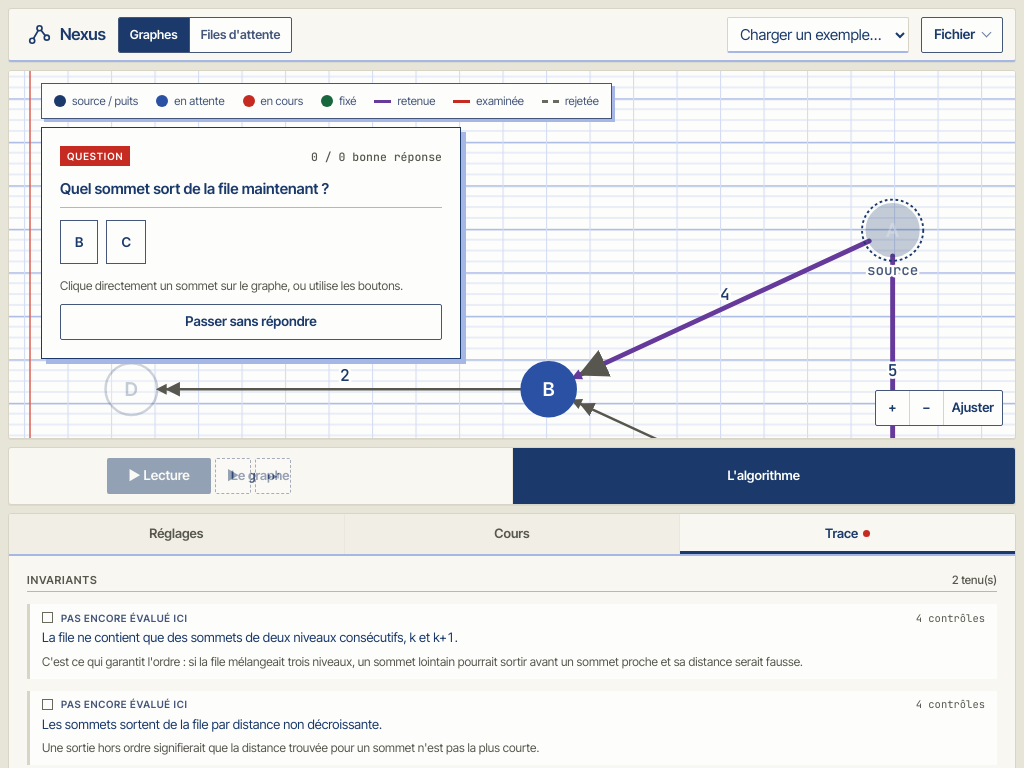
Scenario: mode question › compte une bonne réponse et explique pourquoi
Earlier steps of the test are not shown.
Click the button "B". click: [79, 242]
box: left=60, top=220, right=98, bottom=264
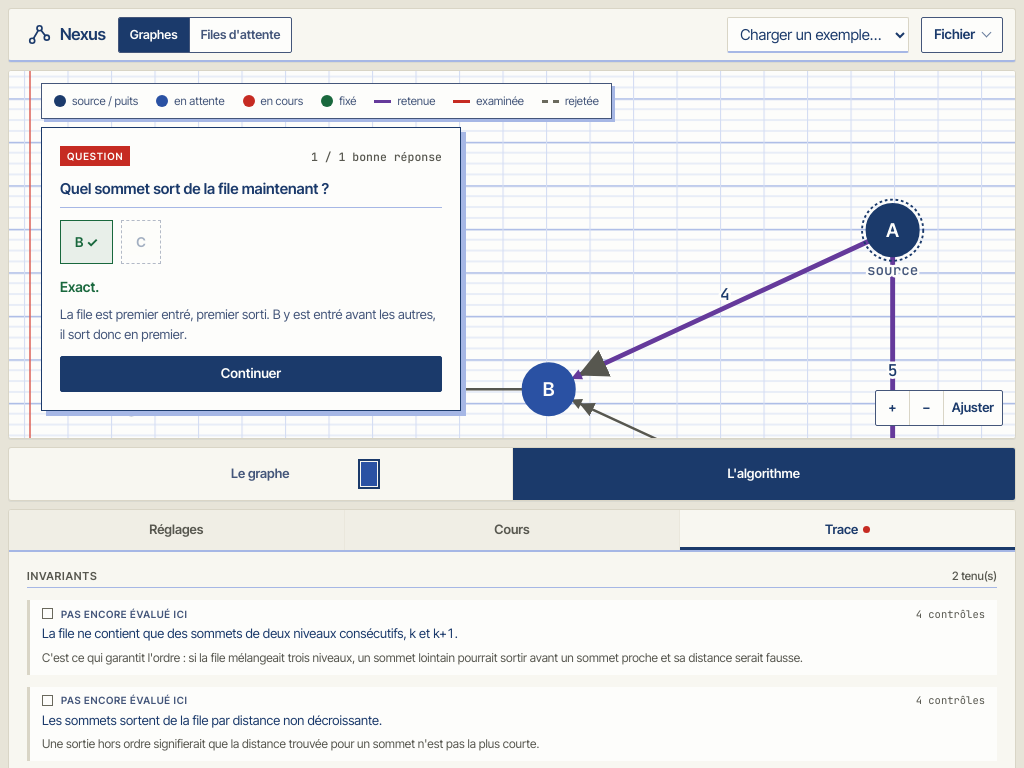
Expected: the text "Exact." is shown, left=60, top=278, right=99, bottom=295
Expected: the text "premier entré, premier sorti" is shown, left=60, top=306, right=436, bottom=342
Expected: the text "1 / 1 bonne réponse" is shown, left=311, top=151, right=442, bottom=162
